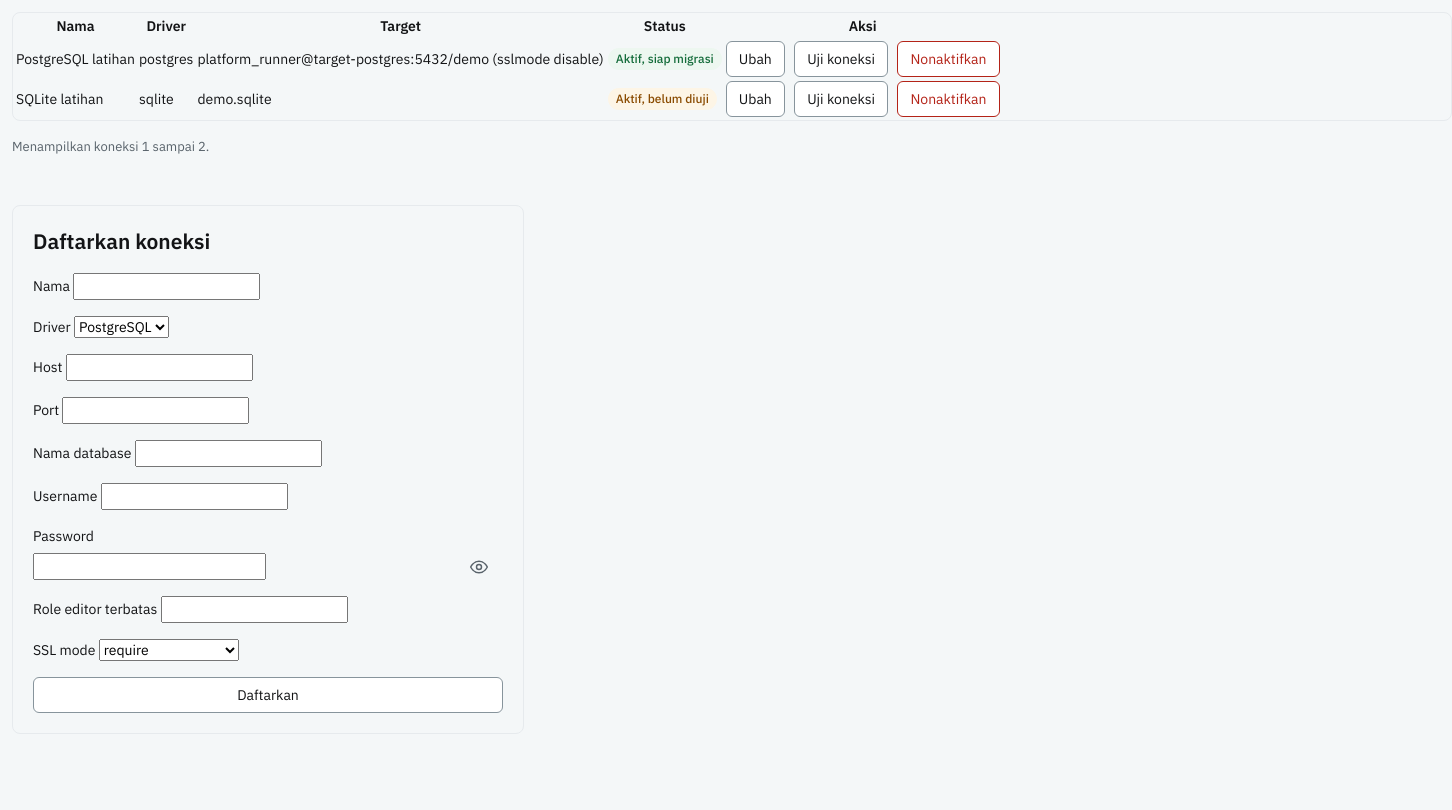
Test: ConnectionsPage › tests a connection and reports the result as text
Expected: the text "PostgreSQL latihan" is shown, [15,40,136,78]
Click the button "Uji koneksi" in the row of "PostgreSQL latihan" at (841, 59), box [794,41,888,77]
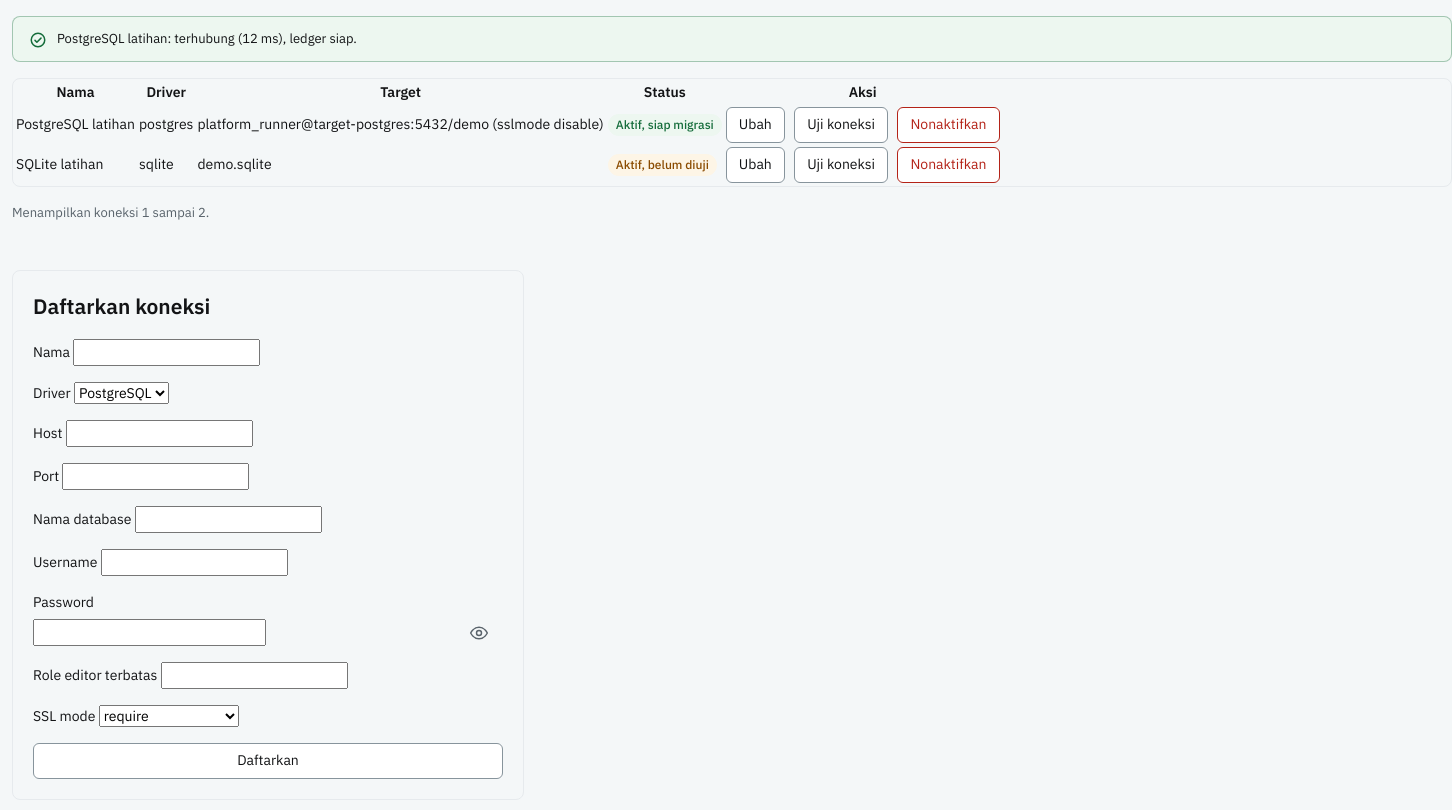
Expected: the message shows "terhubung (12 ms)", [57,30,357,47]
